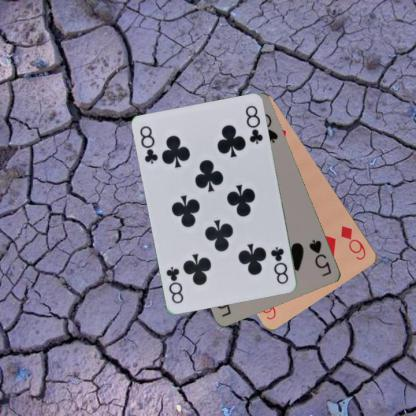5s: (306, 237, 333, 278)
6d: (338, 223, 367, 262)
8c: (268, 244, 290, 286), (138, 123, 160, 165)
